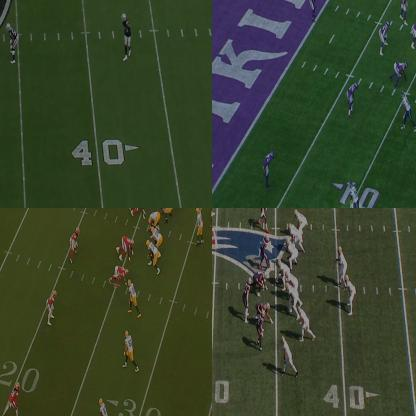CENTER: (274, 258, 287, 288), (149, 209, 161, 227)
DB: (122, 9, 130, 61), (264, 150, 275, 186), (346, 80, 357, 113), (256, 310, 264, 350), (310, 0, 320, 23)
LB: (7, 22, 18, 63), (378, 21, 390, 54), (244, 283, 252, 326), (46, 291, 56, 325), (401, 0, 411, 23), (72, 228, 79, 260), (261, 208, 271, 227)
QB: (338, 248, 349, 286), (195, 208, 204, 245)
SKILL: (344, 276, 356, 317), (298, 307, 312, 342), (8, 383, 22, 415), (281, 337, 293, 374), (347, 178, 362, 207), (294, 208, 309, 233), (403, 93, 414, 127), (126, 333, 136, 370), (128, 281, 139, 314), (99, 398, 114, 415)
